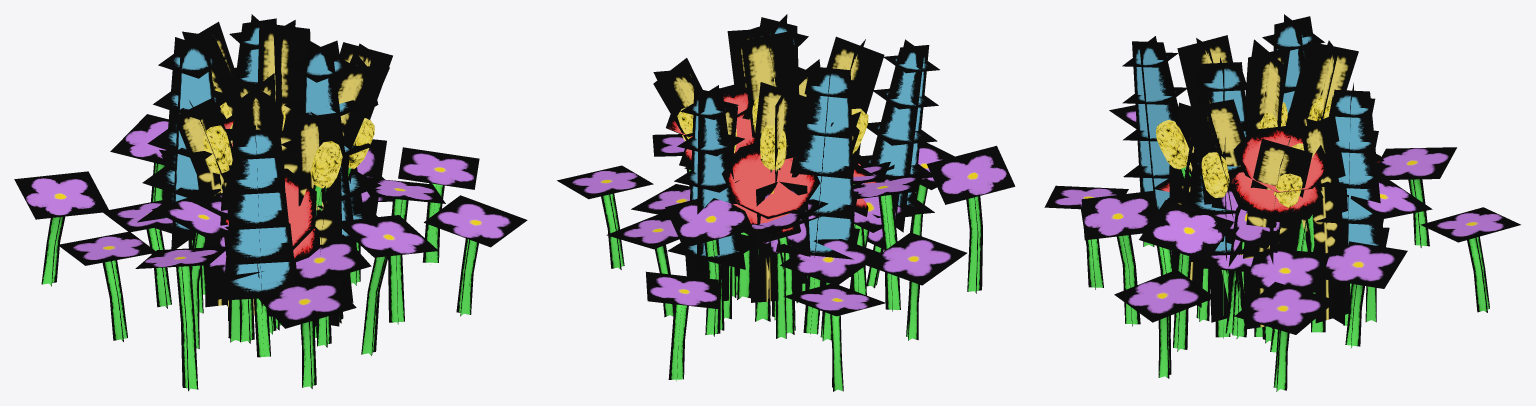
File: SM_Flowers.fbx
The picture shows the model from 3 angles, left to right: view 1: azimuth 30°, elevation 25°; view 2: azimuth 150°, elevation 25°; view 3: azimuth 270°, elevation 25°; orthographic projection. The views are drawn at different scales.
Parts seen in each view (by area): view 1: 05, 07, 08, 04, 01, 06, 02, 03; view 2: 07, 05, 08, 04, 02, 06, 03, 01; view 3: 05, 08, 07, 04, 01, 03, 02, 06.
Boxes of the visible parts, bbox=[...] form: 05: bbox=[14, 114, 527, 391]; 07: bbox=[137, 14, 381, 357]; 08: bbox=[174, 20, 392, 326]; 04: bbox=[102, 177, 445, 348]; 01: bbox=[203, 86, 374, 337]; 06: bbox=[161, 139, 386, 343]; 02: bbox=[220, 99, 378, 330]; 03: bbox=[231, 143, 372, 323]; 07: bbox=[667, 14, 939, 334]; 05: bbox=[557, 134, 1015, 391]; 08: bbox=[653, 24, 884, 302]; 04: bbox=[631, 173, 924, 340]; 02: bbox=[666, 84, 884, 321]; 06: bbox=[684, 164, 918, 338]; 03: bbox=[679, 118, 868, 320]; 01: bbox=[677, 97, 868, 320]; 05: bbox=[1044, 105, 1520, 391]; 08: bbox=[1169, 35, 1358, 329]; 07: bbox=[1122, 14, 1389, 338]; 04: bbox=[1139, 175, 1432, 352]; 01: bbox=[1156, 97, 1331, 343]; 03: bbox=[1229, 172, 1323, 336]; 02: bbox=[1154, 125, 1384, 251]; 06: bbox=[1167, 182, 1280, 338].
Bounding box in the file's own units: 217 × 144 × 225.
